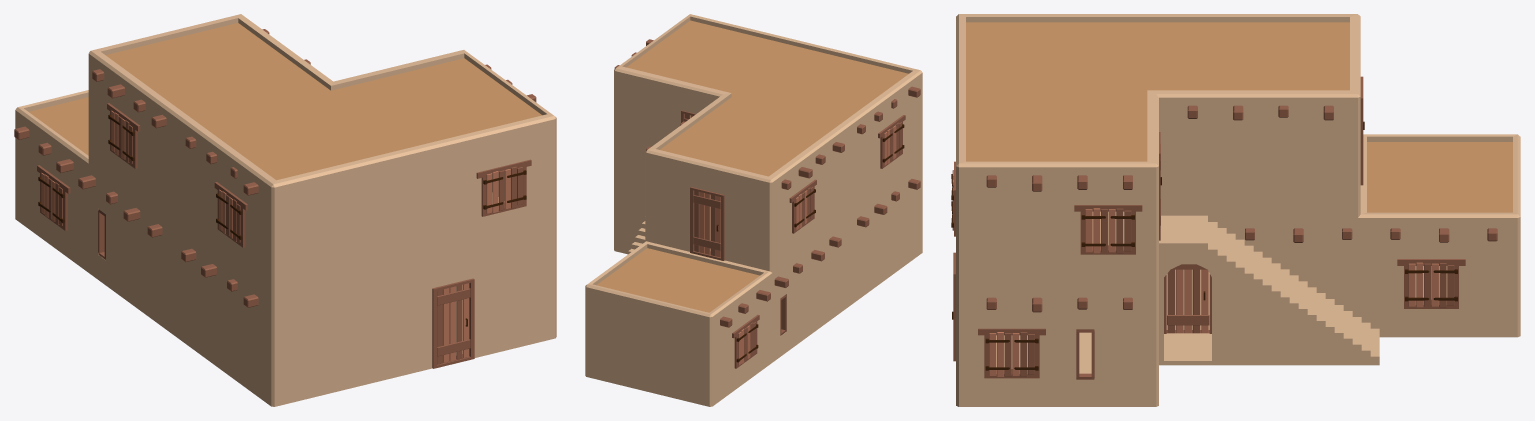
Rendered from Large Building B.fbx.
3 renders of one model, left to right at view 1: azimuth 30°, elevation 25°; view 2: azimuth 150°, elevation 25°; view 3: azimuth 270°, elevation 25°, orthographic. The views are drawn at different scales.
Visible parts, largest first — view 1: Large Building B; view 2: Large Building B; view 3: Large Building B.
Part boxes in pixels (x1,y1,x2,y2): Large Building B: (14,14,556,406); Large Building B: (585,14,922,406); Large Building B: (951,14,1520,406).
Bounding box in the file's own units: 963 × 653 × 1391.
